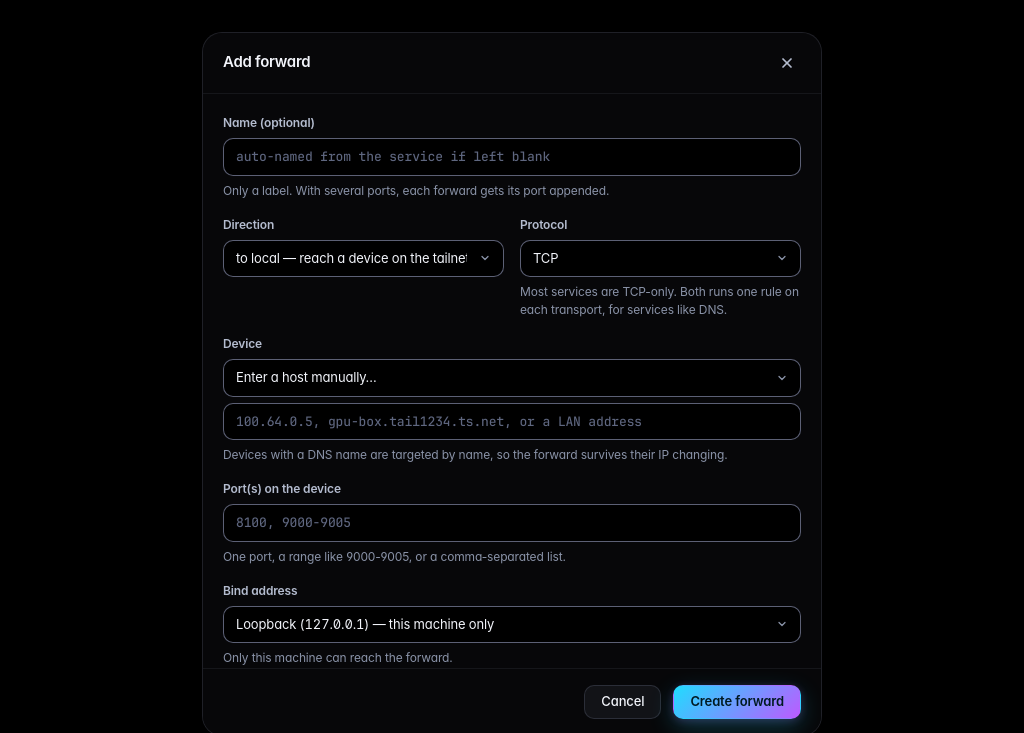
Scenario: what the dialog refuses to send › refuses a specific-interface bind with no IP typed
This screenshot has width=1024, height=733.
Type "gpu-box" into the field named "Host" at (512, 421), box [223,402,801,440]
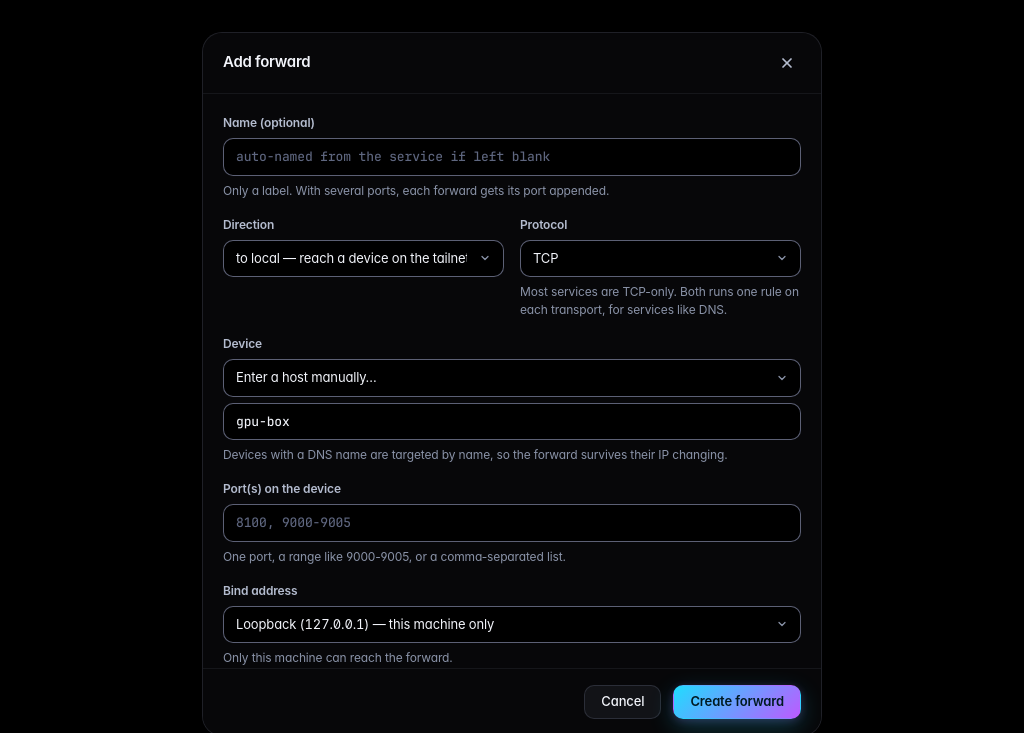
Type "22" into the field labelled "Port(s) on the device" at (512, 523), box [223,504,801,542]
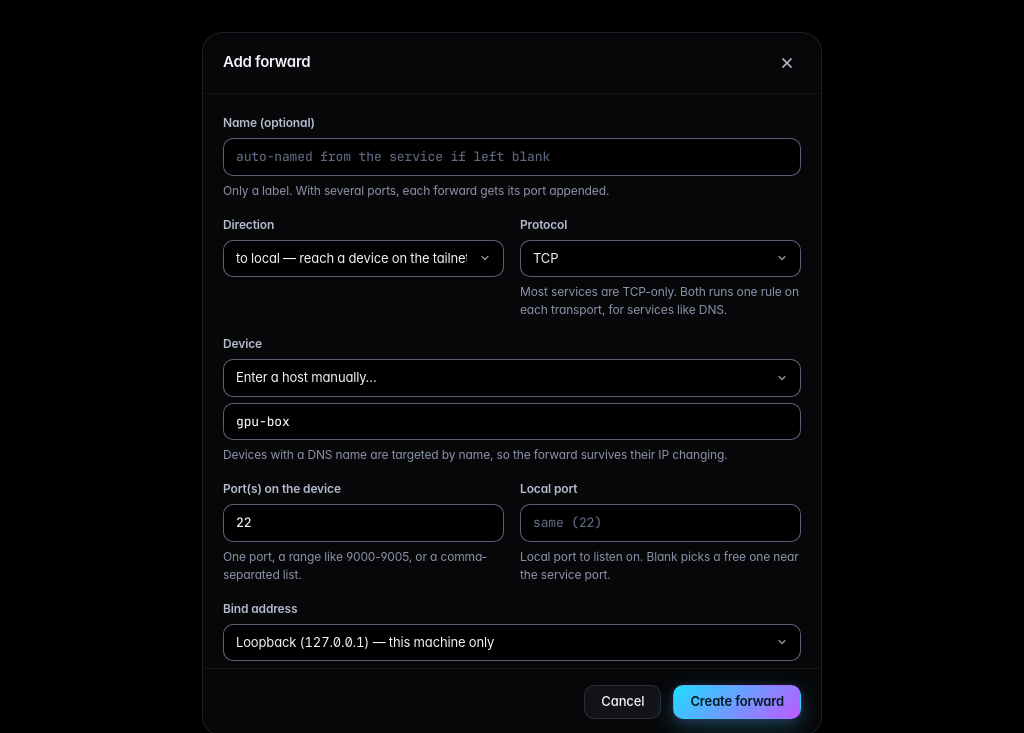
Select "Specific IP…" in the dropdown labelled "Bind address" at (512, 642), box [223,624,801,661]
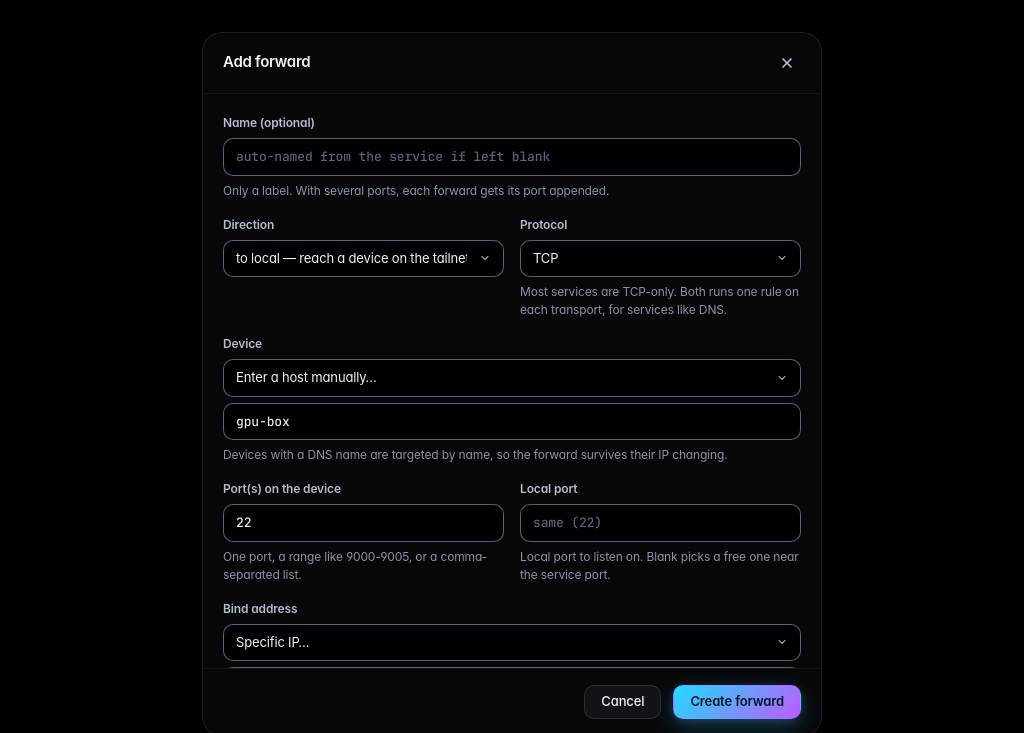
Click the button "Create forward" at (737, 702), box [673,686,801,719]
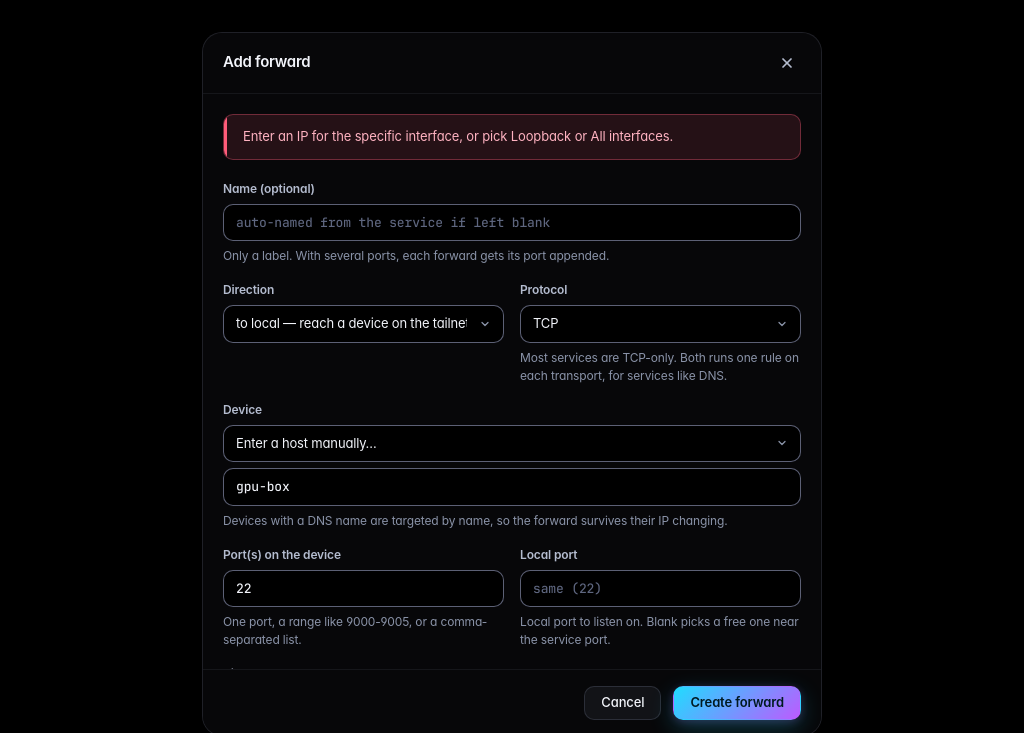
Expected: the text "Enter an IP for the specific interface, or pick Loopback or All interfaces." is shown, [223,114,801,160]
